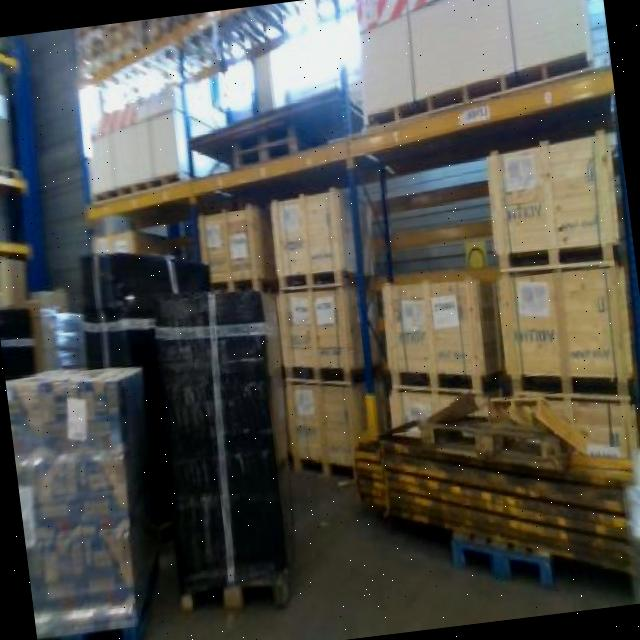pallet: (345, 47, 601, 140), (404, 409, 574, 483), (441, 521, 563, 597), (165, 568, 301, 618), (492, 235, 629, 284), (216, 107, 311, 173), (505, 363, 640, 409), (87, 164, 192, 208), (35, 601, 146, 640), (384, 358, 498, 394), (275, 355, 372, 391), (271, 263, 373, 297)
